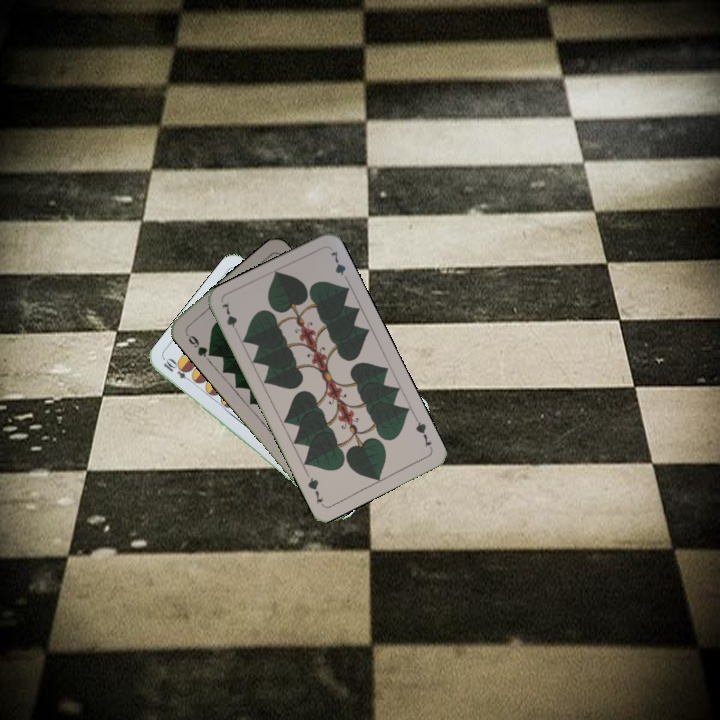E10: (159, 355, 196, 385)
G7: (411, 414, 435, 452), (218, 299, 241, 338)
G9: (181, 329, 216, 360)
